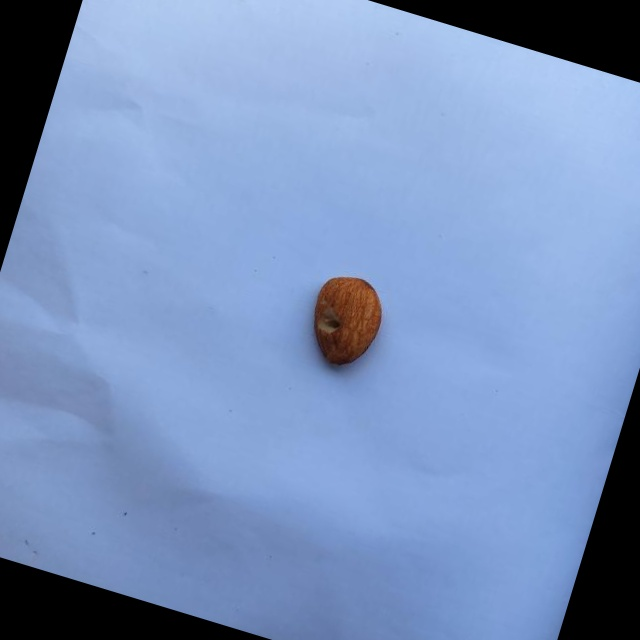grade3: (294, 263, 394, 379)
